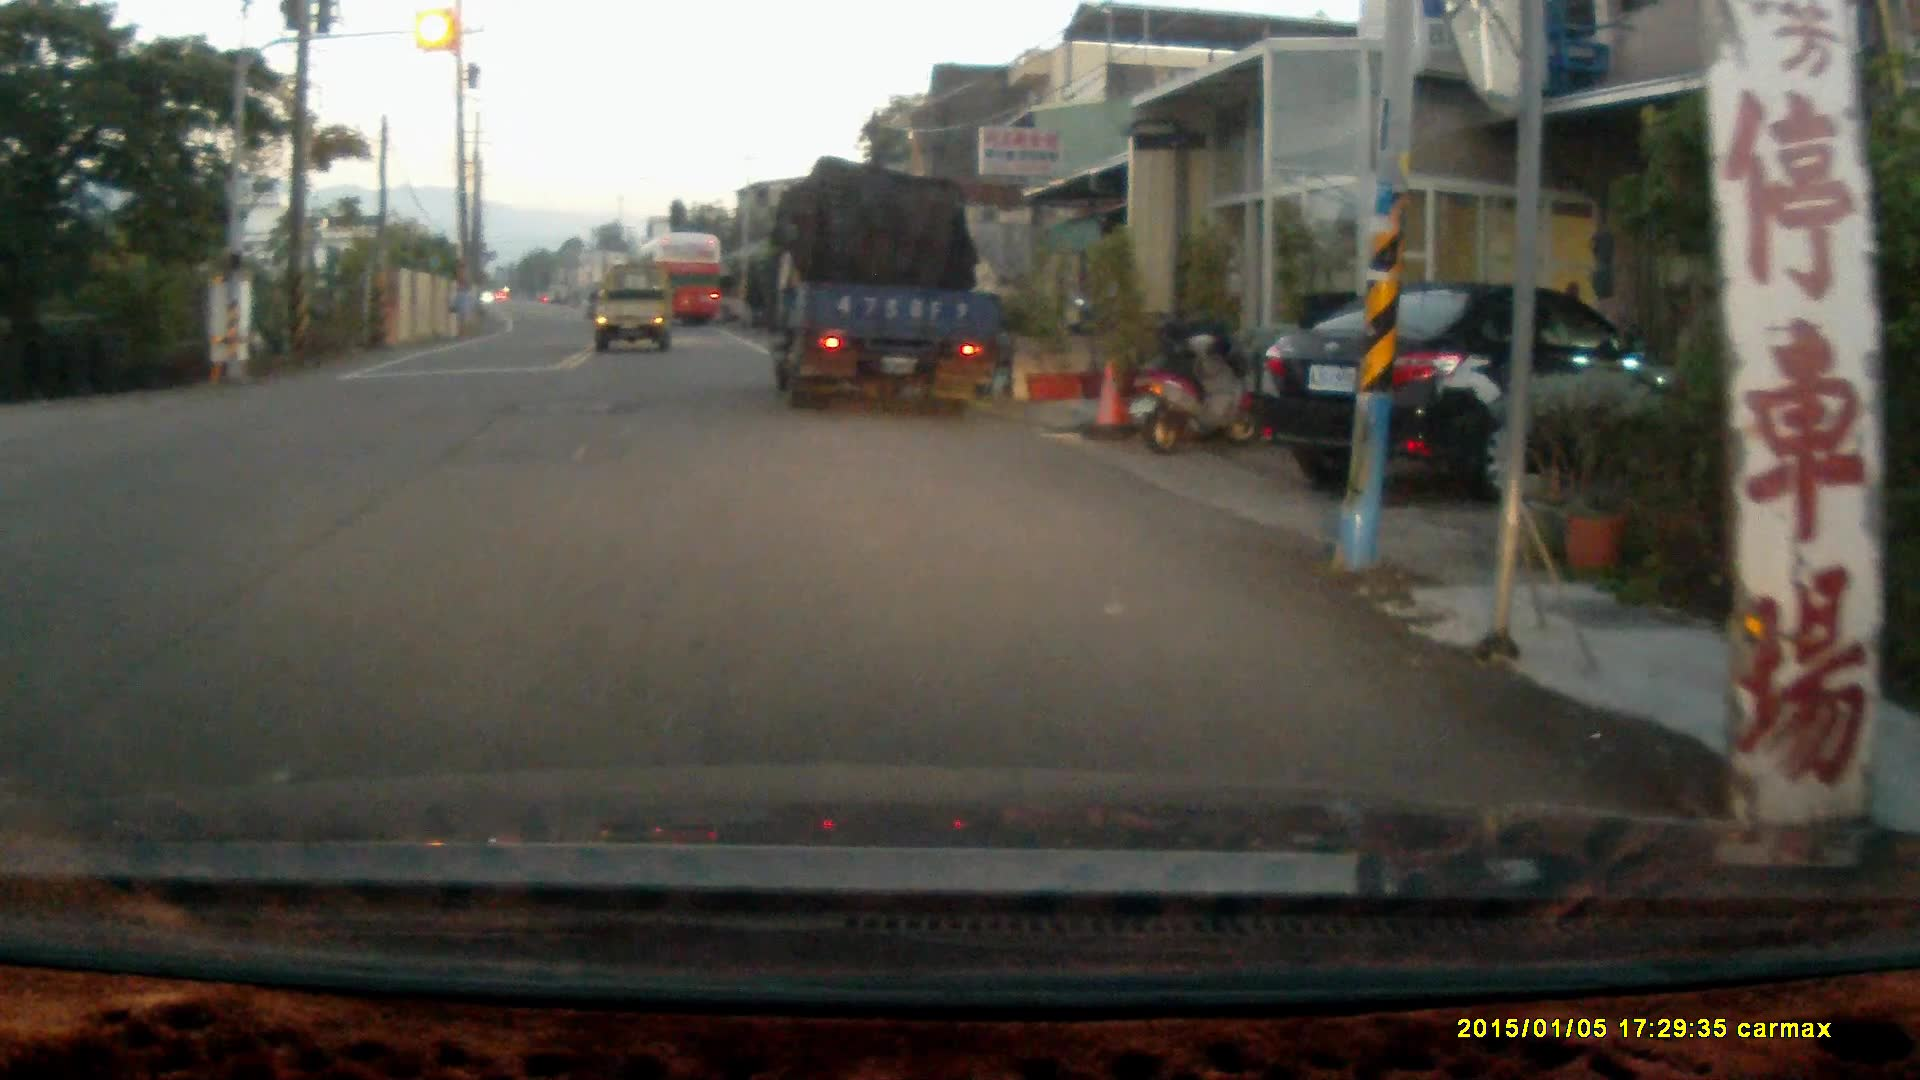vehicle: (1249, 280, 1684, 498), (753, 167, 1004, 411), (640, 236, 731, 336), (593, 273, 673, 355)
